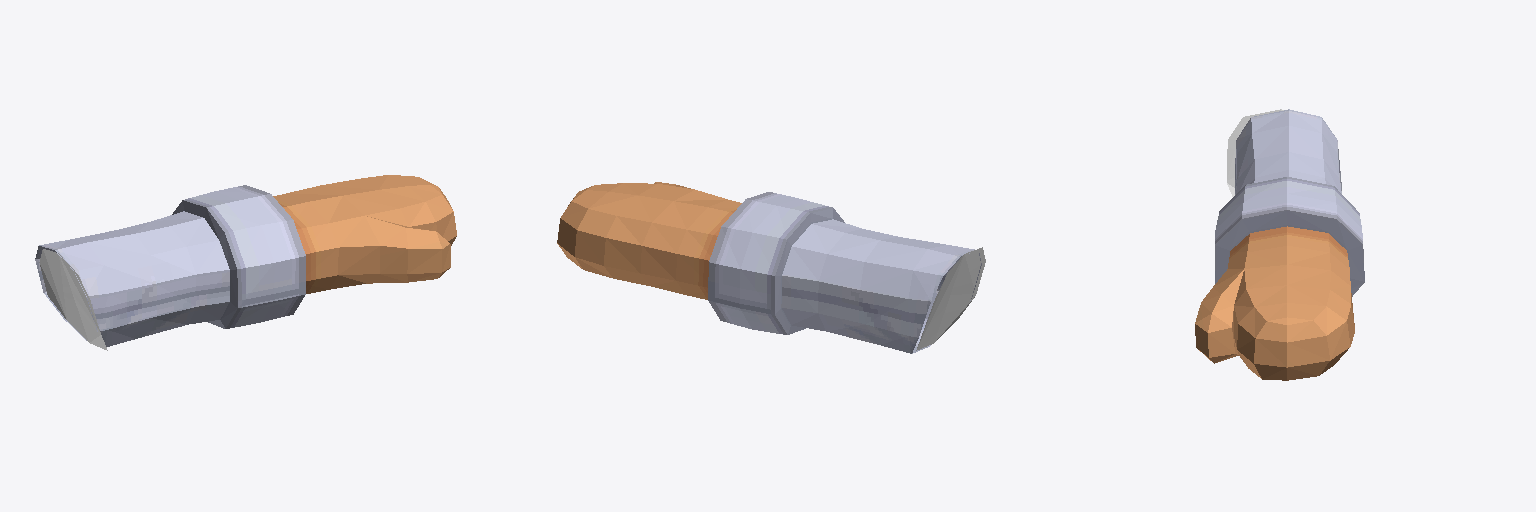
3 renders of one model, left to right at view 1: azimuth 30°, elevation 25°; view 2: azimuth 150°, elevation 25°; view 3: azimuth 270°, elevation 25°, orthographic.
Parts seen in each view (by area): view 1: Mesh_0027.002, Mesh_0027.007; view 2: Mesh_0027.002, Mesh_0027.007; view 3: Mesh_0027.002, Mesh_0027.007.
Boxes of the visible parts, x1,y1,x2,y2 form: Mesh_0027.002: [35, 175, 456, 346]; Mesh_0027.007: [39, 249, 107, 350]; Mesh_0027.002: [557, 182, 981, 353]; Mesh_0027.007: [916, 247, 985, 350]; Mesh_0027.002: [1195, 109, 1364, 380]; Mesh_0027.007: [1227, 109, 1283, 196].
Size of the model in its own units: 0.5884 by 0.1625 by 0.2199.
Materials: 2 (2 with a texture image).